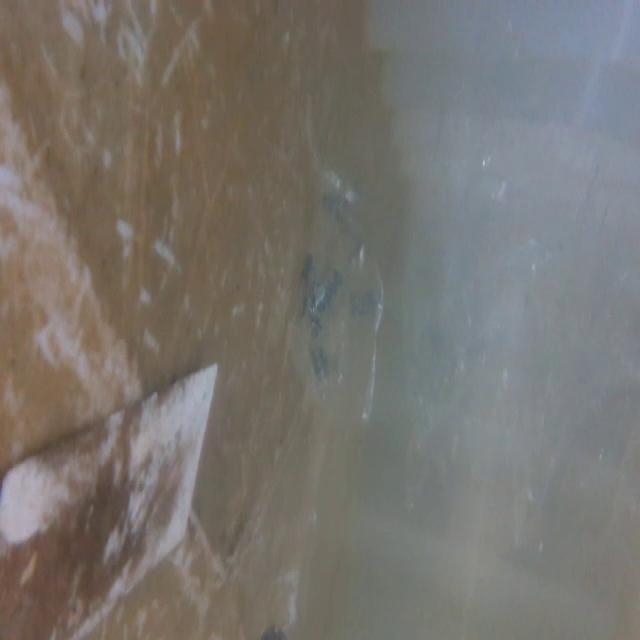metal: (0, 360, 223, 640)
plastic bags: (418, 12, 602, 616), (287, 162, 412, 433)
